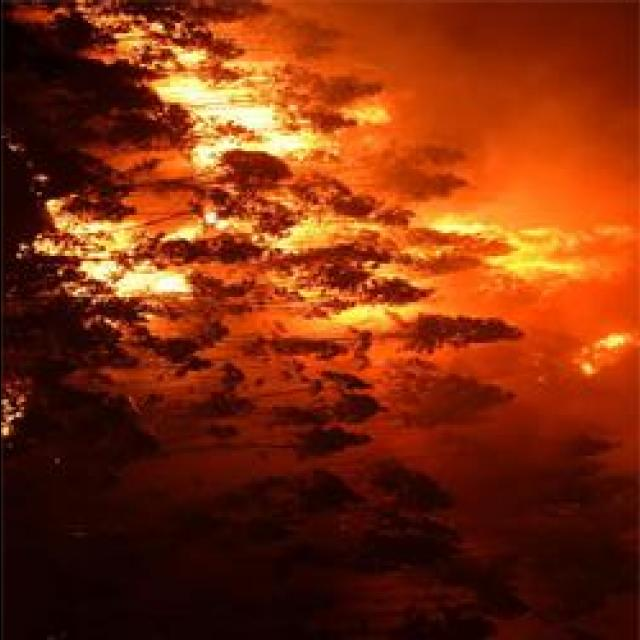fire: (153, 39, 350, 167), (37, 204, 191, 302), (452, 223, 610, 283), (582, 324, 630, 372)
